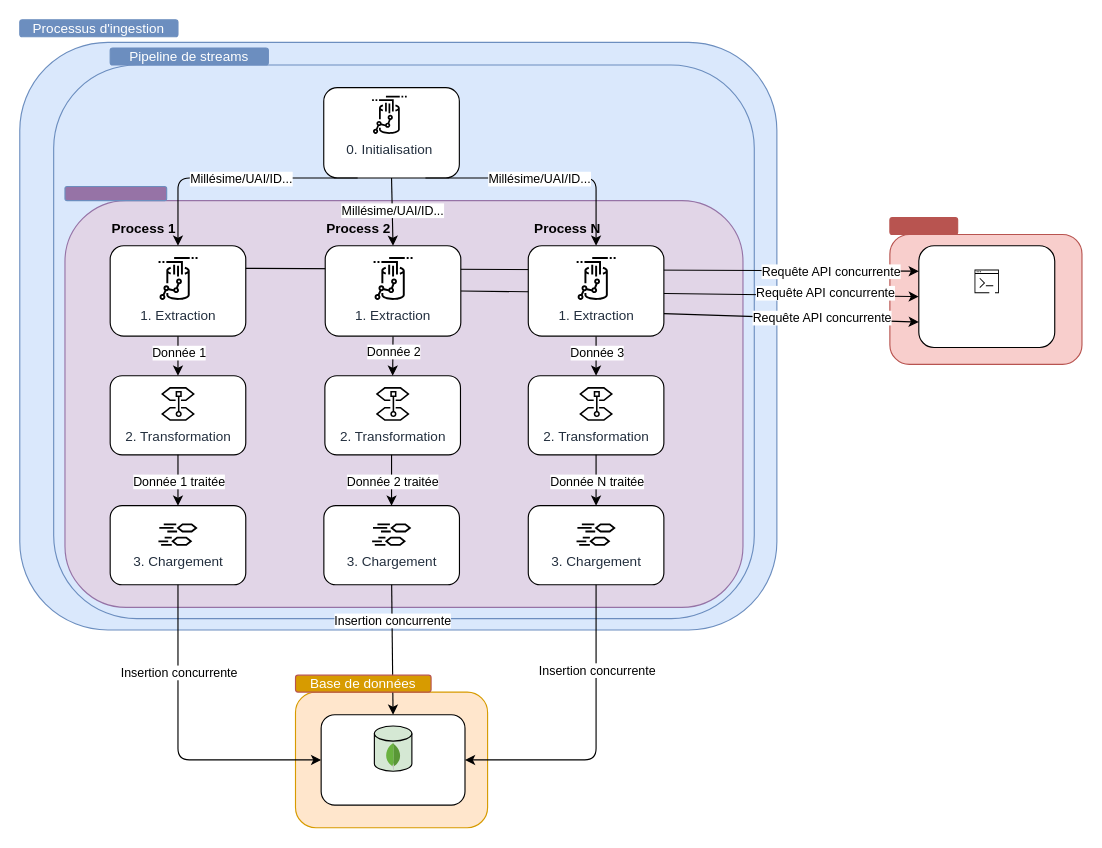
Some shapes in this 1102 by 848 pixel diagram are drawn without their labels. The shapes that lost their labels are listed below. From the top down, each one's centre as x and y in pixels, then its label:
At (115,193): "Parallélisation".
At (923,225): "Sources".
At (986,281): "API DEPP InserJeunes".
At (393,755): "MongoDB".
